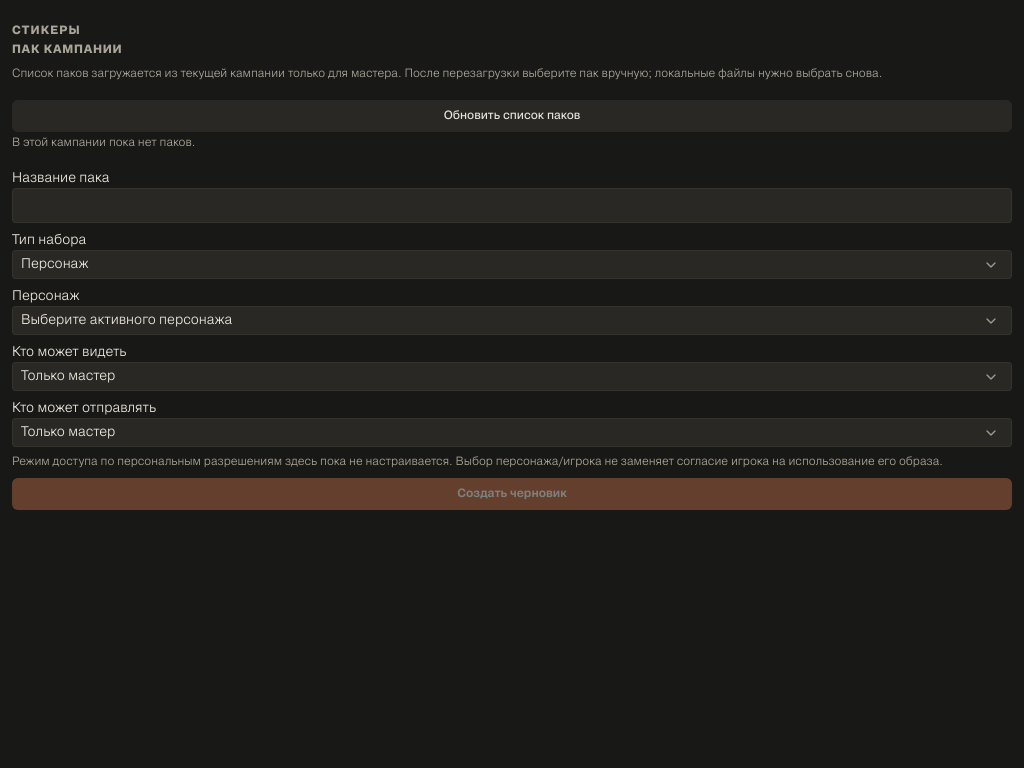
Test: StickerPackManager › does not replay create after an ambiguous HTTP 500
Type "Ночной дозор" into the field labelled "Название пака" at (512, 206), box [12,188,1012,223]
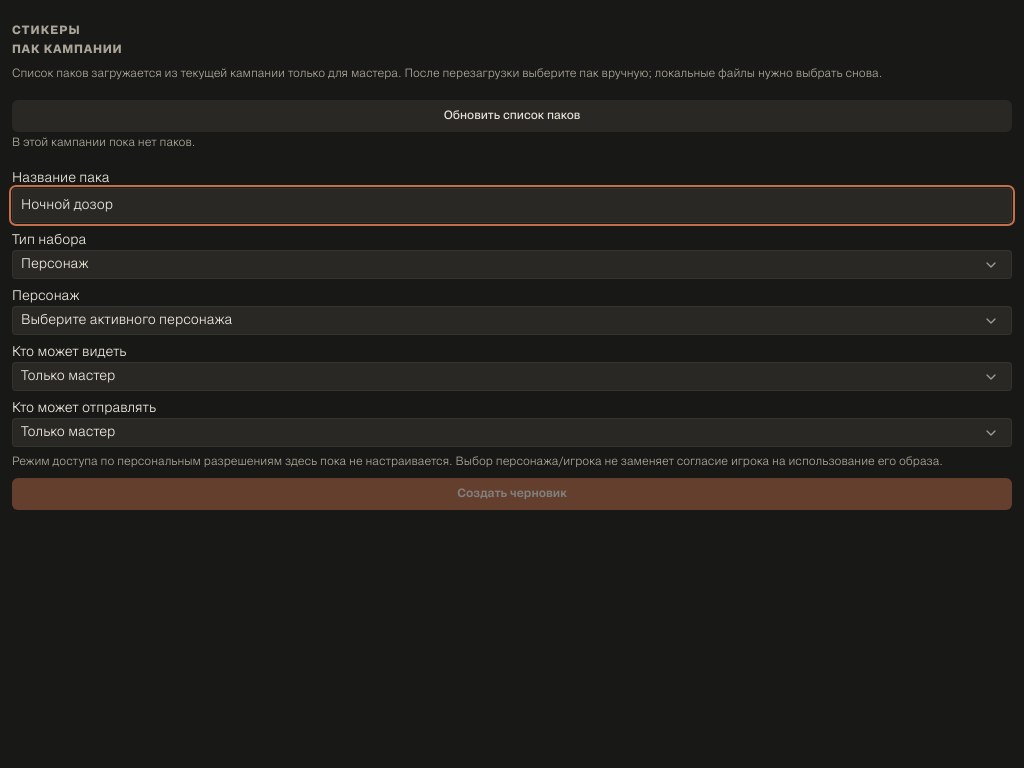
Select "NPC" in the dropdown labelled "Тип набора" at (512, 265), box [12,250,1012,279]
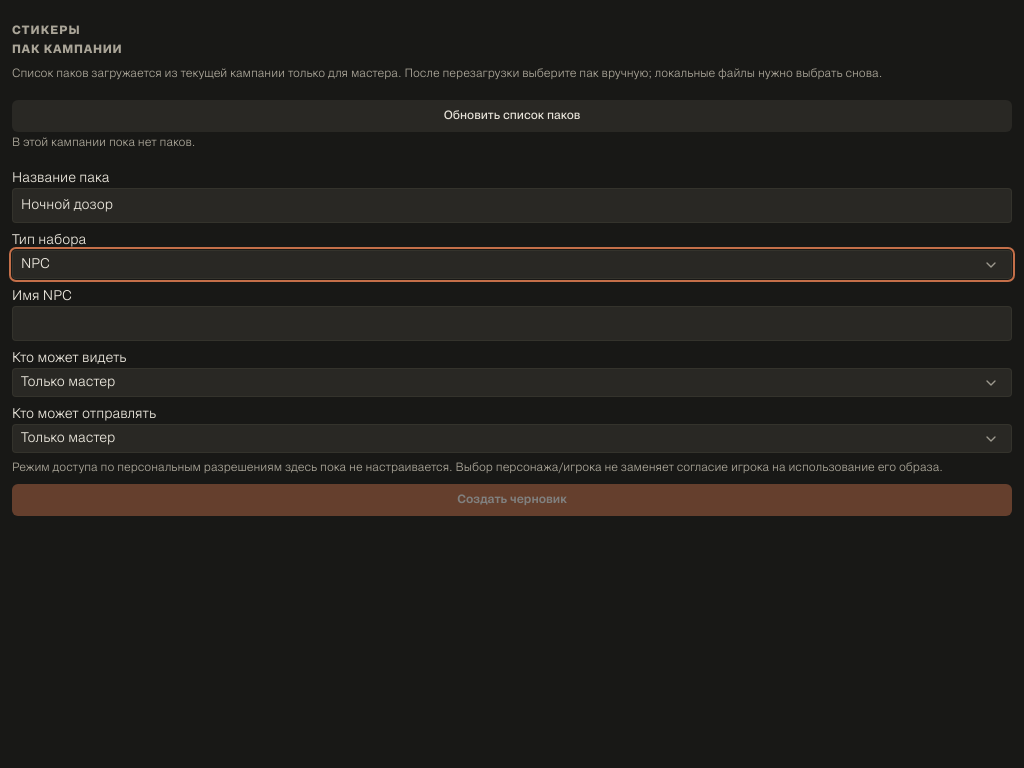
Type "Смотритель" into the field labelled "Имя NPC" at (512, 324), box [12,306,1012,341]
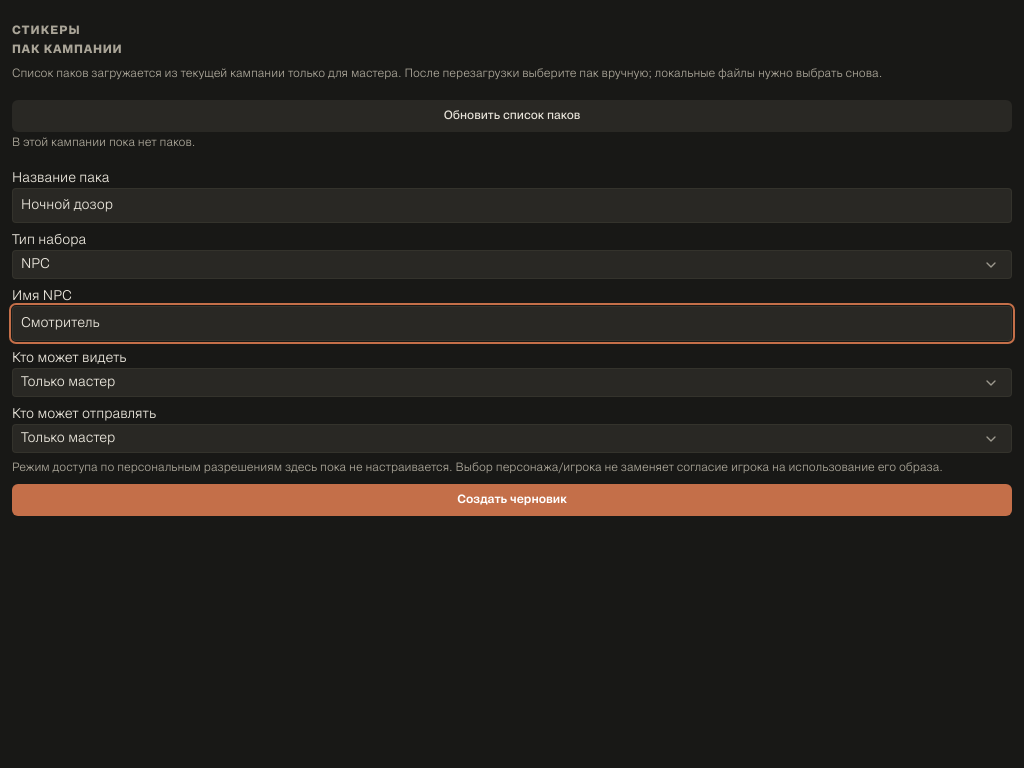
Click the button "Создать черновик" at (512, 500), box [12,484,1012,516]
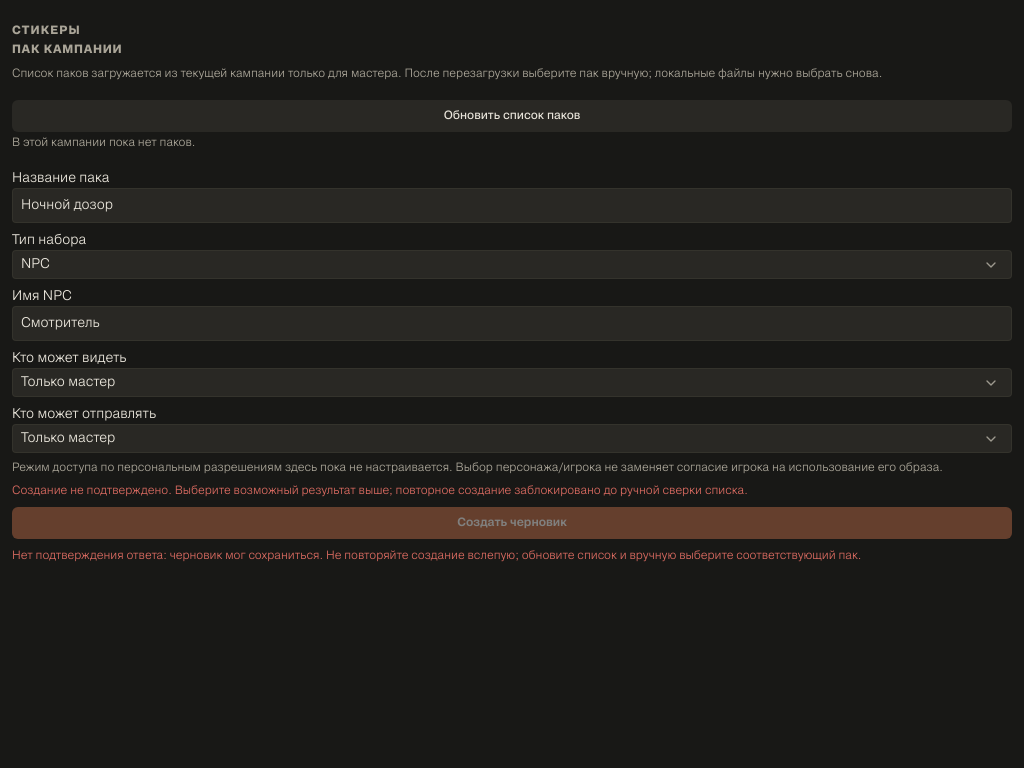
Result: the text "черновик мог сохраниться" is shown at [12,551,862,561]
Result: the button "Создать черновик" is disabled at [12,507,1012,539]
